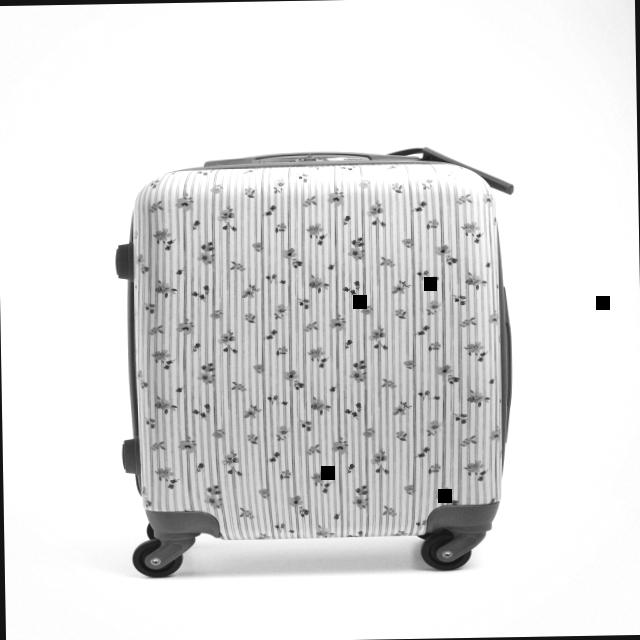luggage: (104, 140, 524, 586)
